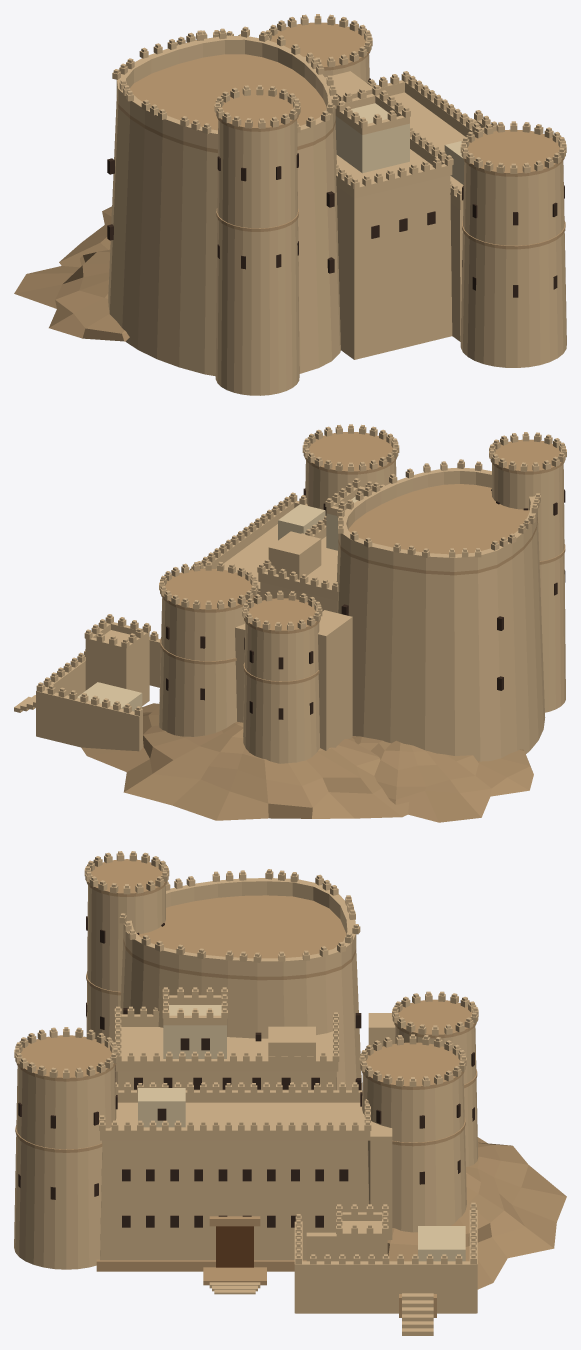
File: fort.glb
3 renders of one model, top to bottom at view 1: azimuth 30°, elevation 25°; view 2: azimuth 150°, elevation 25°; view 3: azimuth 270°, elevation 25°, orthographic. The views are drawn at different scales.
Visible parts, largest first — view 1: Fort_Rustaq; view 2: Fort_Rustaq; view 3: Fort_Rustaq.
Part boxes in pixels (x1=…): Fort_Rustaq: x1=14, y1=14, x2=566, y2=395; Fort_Rustaq: x1=14, y1=424, x2=566, y2=822; Fort_Rustaq: x1=14, y1=851, x2=566, y2=1335.
Size of the model in its own units: 36.79 by 18.82 by 34.77.
